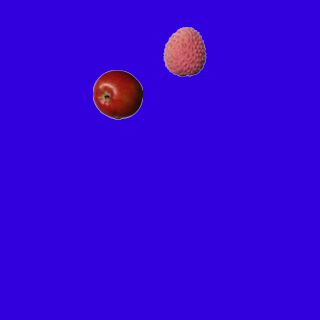Apple Braeburn: (92, 69, 142, 119)
Lychee: (159, 26, 209, 76)
